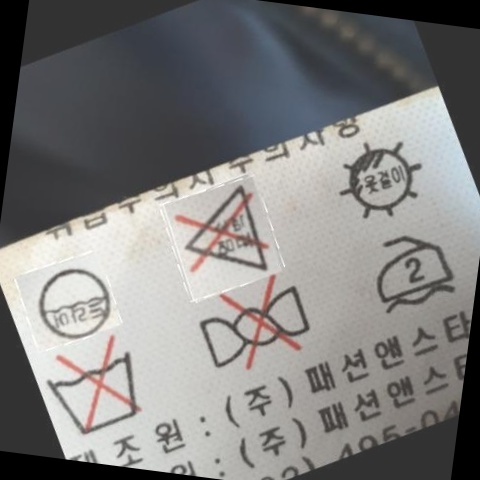DN_wash: (50, 330, 147, 441)
DN_wring: (193, 268, 319, 388)
dry_clean: (28, 249, 125, 348)
iron_medium: (367, 230, 463, 318)
line_dry_in_shade: (336, 132, 428, 229)
non_chlorine_bleach: (179, 179, 274, 286)
